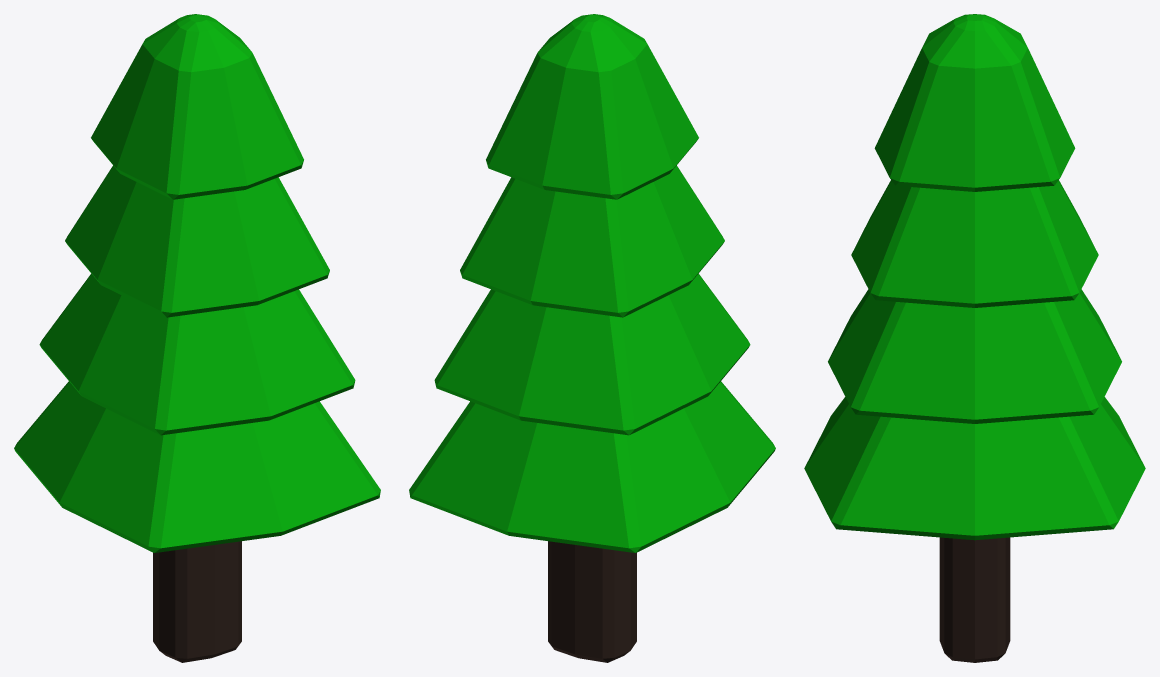
File: tree.fbx
3 views of the same model, side by side, from view 1: azimuth 30°, elevation 25°; view 2: azimuth 150°, elevation 25°; view 3: azimuth 270°, elevation 25° (orthographic).
Parts seen in each view (by area): view 1: tree; view 2: tree; view 3: tree.
Boxes of the visible parts, x1,y1,x2,y2 form: tree: [14, 14, 380, 662]; tree: [409, 14, 775, 662]; tree: [804, 14, 1145, 662].
Bounding box in the file's own units: 86.67 × 189 × 92.89.
